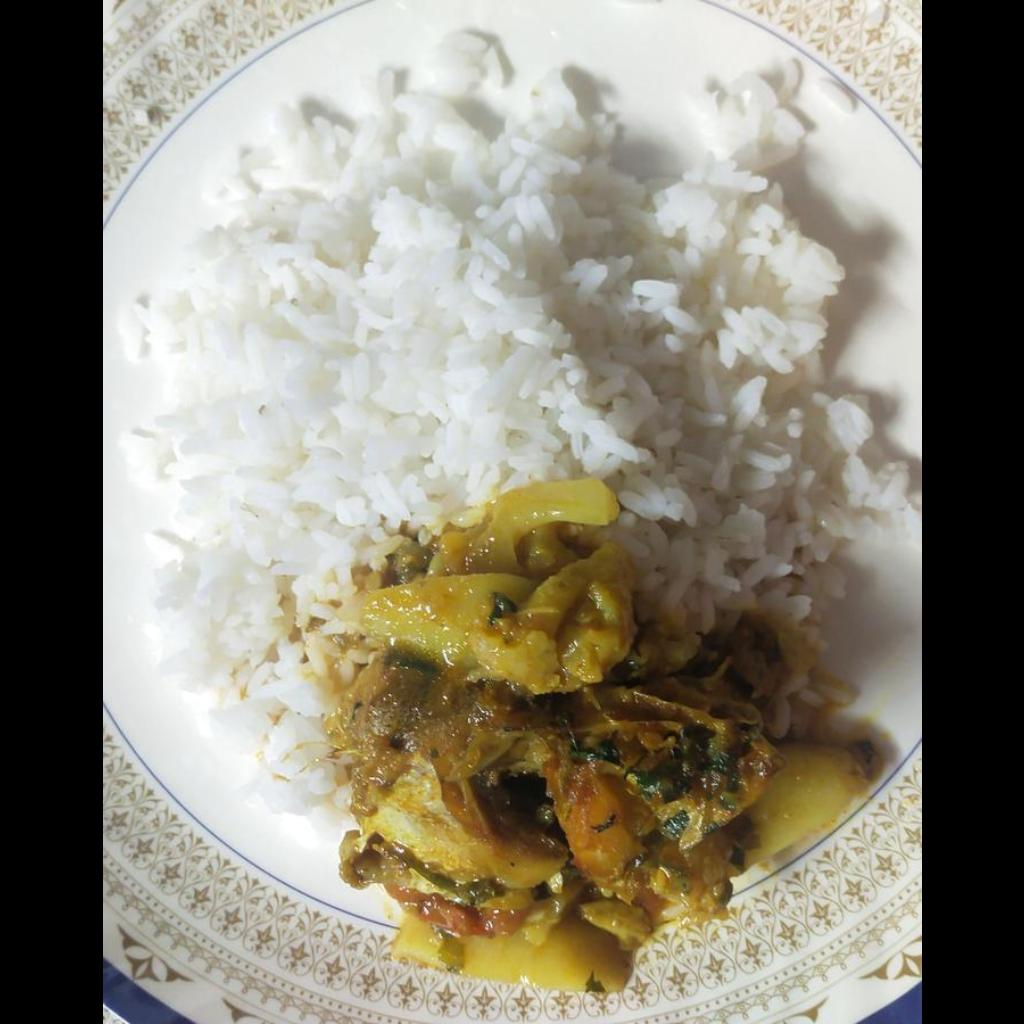fish: (328, 476, 869, 994)
rice: (113, 37, 920, 802)
